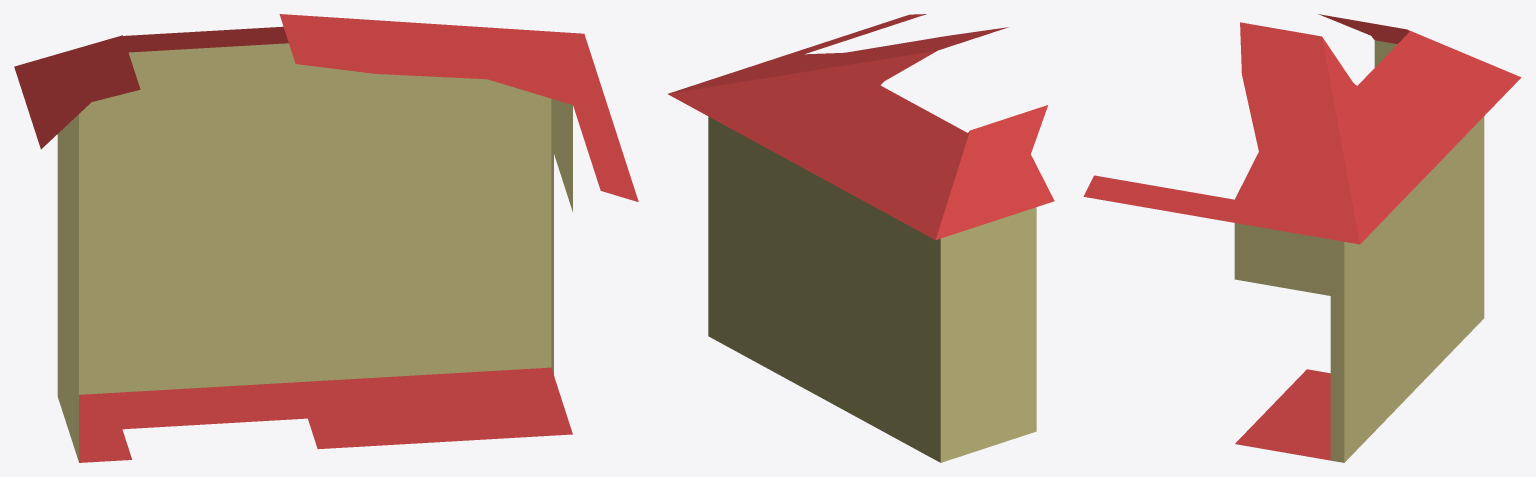
3 renders of one model, left to right at view 1: azimuth 30°, elevation 25°; view 2: azimuth 150°, elevation 25°; view 3: azimuth 270°, elevation 25°, orthographic. The views are drawn at different scales.
Bounding box in the file's own units: 15.77 × 15.32 × 12.44.
